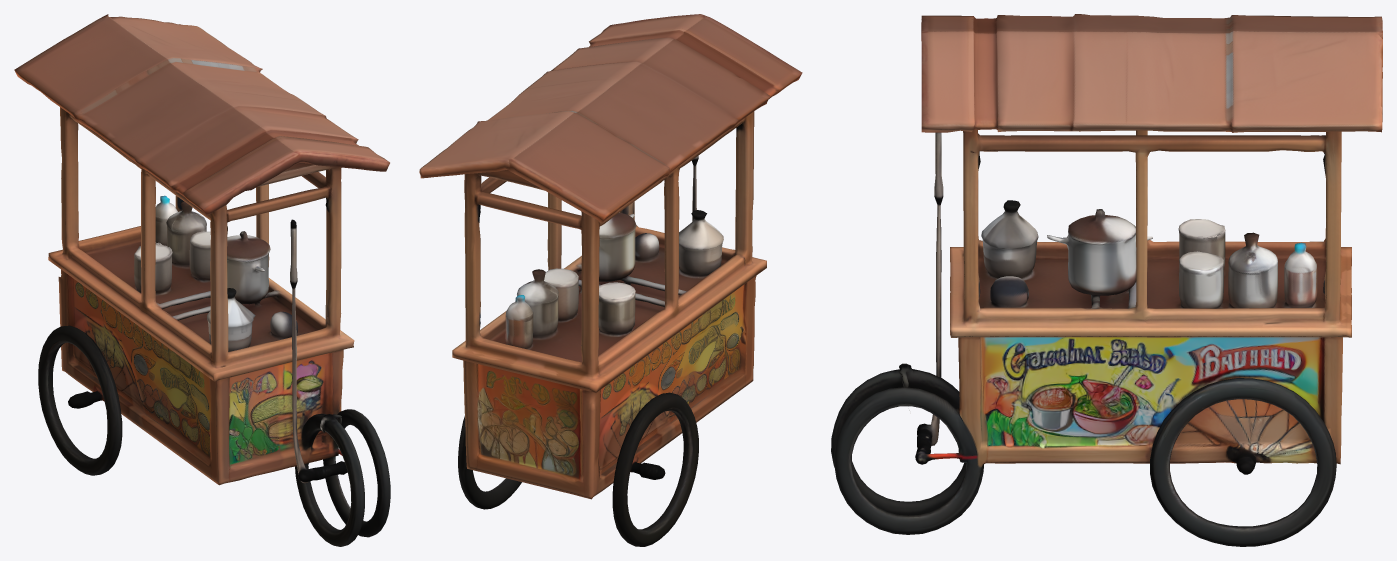
File: gerobak-rodin.glb
The picture shows the model from 3 angles, left to right: view 1: azimuth 30°, elevation 25°; view 2: azimuth 150°, elevation 25°; view 3: azimuth 270°, elevation 25°; orthographic projection. The views are drawn at different scales.
Visible parts, largest first — view 1: model; view 2: model; view 3: model.
Part boxes in pixels (left/top/right/bottom): model: left=14, top=14, right=390, bottom=546; model: left=419, top=14, right=802, bottom=546; model: left=831, top=14, right=1382, bottom=546.
Bounding box in the file's own units: 0.8584 × 1.7 × 1.79.
Materials: 1 (1 with a texture image).
